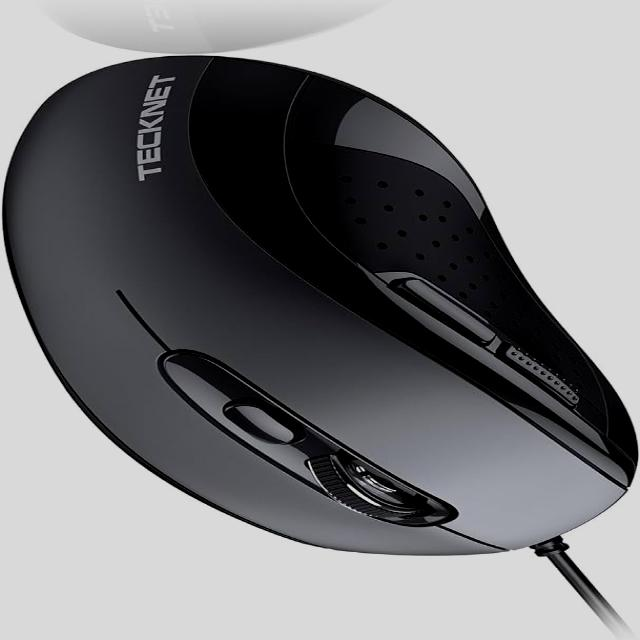souris: (5, 47, 640, 615)
